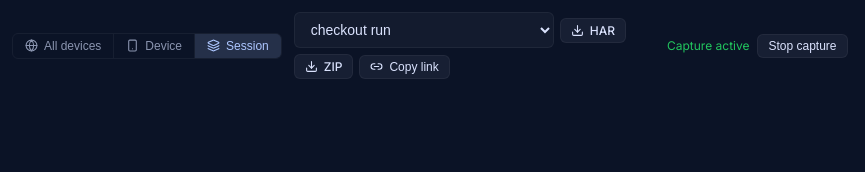
Test: ScopeBar › shows active capture status and stops the selected session capture
The image size is (865, 172).
expect the element with test id "scope-capture-status" is shown: met, box x1=667 y1=34 x2=848 y2=58
Click the button with test id "scope-stop-capture".
click(802, 46)  # box x1=758 y1=34 x2=848 y2=58
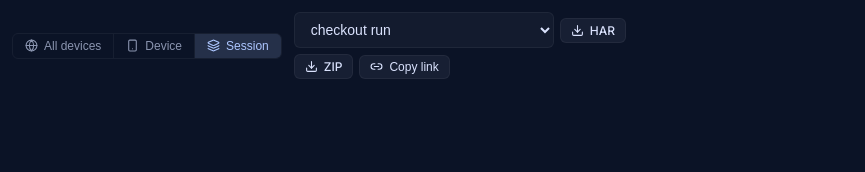
expect the element with test id "scope-capture-status" is gone: met
